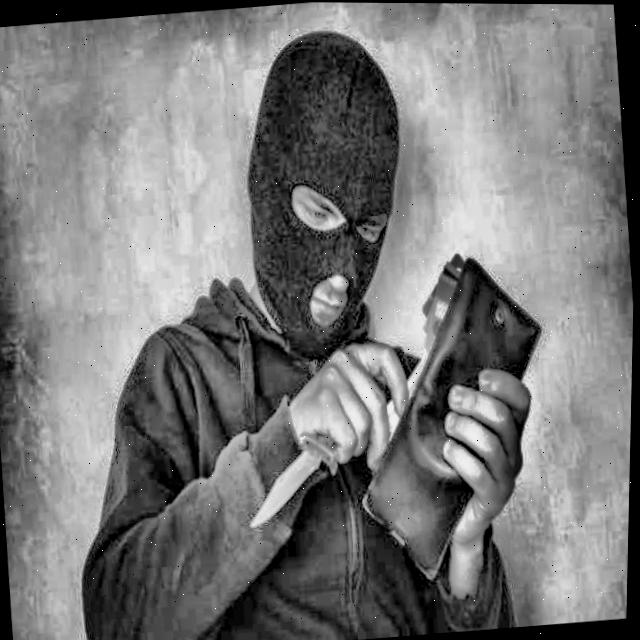robbery: (73, 14, 573, 640)
